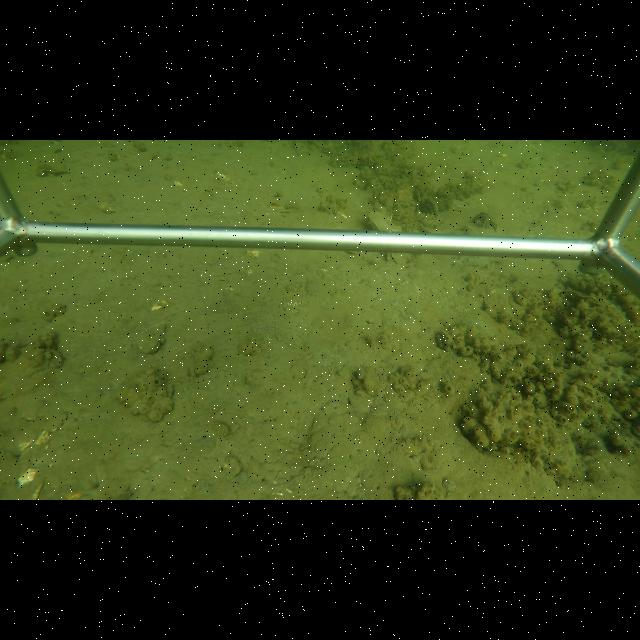Oyster-Closed: (137, 323, 169, 356), (364, 209, 402, 232)
Oyster-Open: (471, 211, 499, 232)
